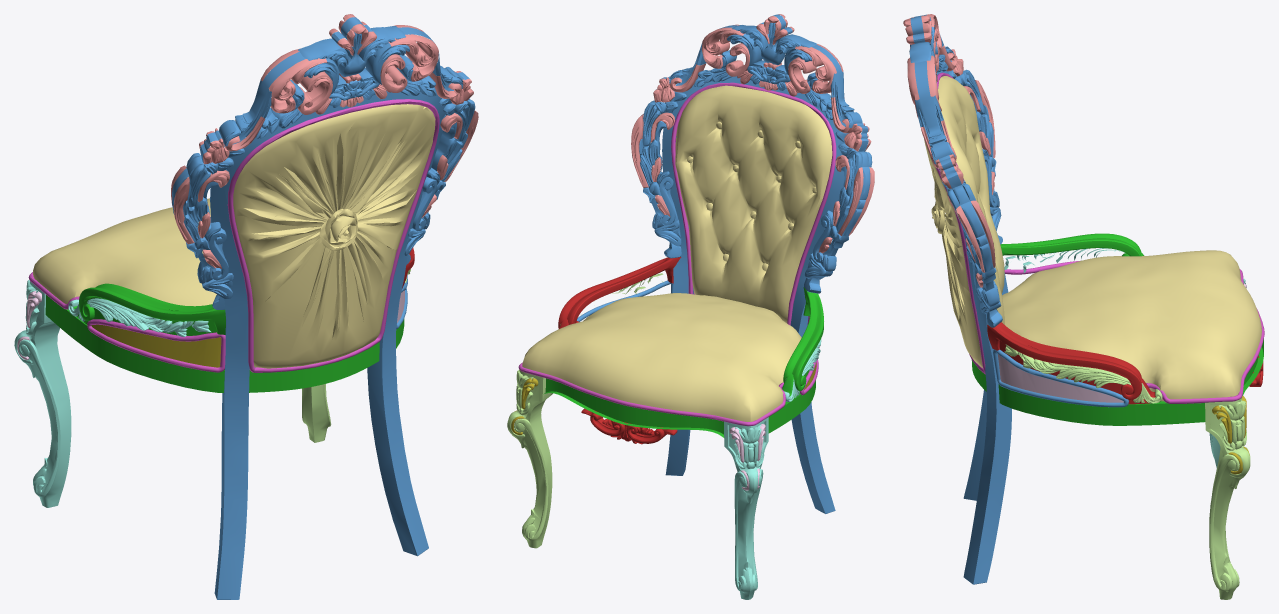
3 renders of one model, left to right at view 1: azimuth 30°, elevation 25°; view 2: azimuth 150°, elevation 25°; view 3: azimuth 270°, elevation 25°, orthographic. The views are drawn at different scales.
Parts seen in each view (by area): view 1: Obj3d66_574394_4_304, Obj3d66_574394_2_32_id_1, Obj3d66_574394_6_805, Obj3d66_574394_2_32_id_2, Obj3d66_574394_1_16, Obj3d66_574394_8_731_id_1, Obj3d66_574394_10_436, Obj3d66_574394_5_101_id_1, Obj3d66_574394_5_101_id_3, Obj3d66_574394_5_101_id_2, Obj3d66_574394_5_101_id_4, Obj3d66_574394_7_107_id_1; view 2: Obj3d66_574394_4_304, Obj3d66_574394_6_805, Obj3d66_574394_2_32_id_1, Obj3d66_574394_2_32_id_2, Obj3d66_574394_8_731_id_1, Obj3d66_574394_7_107_id_1, Obj3d66_574394_10_436, Obj3d66_574394_1_16, Obj3d66_574394_3_899_id_1, Obj3d66_574394_5_101_id_1, Obj3d66_574394_9_806, Obj3d66_574394_8_731_id_2; view 3: Obj3d66_574394_6_805, Obj3d66_574394_2_32_id_1, Obj3d66_574394_4_304, Obj3d66_574394_7_107_id_1, Obj3d66_574394_1_16, Obj3d66_574394_2_32_id_2, Obj3d66_574394_3_899_id_1, Obj3d66_574394_5_101_id_1, Obj3d66_574394_3_899_id_3, Obj3d66_574394_3_899_id_2, Obj3d66_574394_10_436, Obj3d66_574394_3_899_id_4 (+1 smaller).
Boxes of the visible parts, left/top/right/bottom form: Obj3d66_574394_4_304: left=233, top=104, right=435, bottom=368; Obj3d66_574394_2_32_id_1: left=172, top=17, right=475, bottom=599; Obj3d66_574394_6_805: left=33, top=198, right=343, bottom=306; Obj3d66_574394_2_32_id_2: left=171, top=14, right=478, bottom=268; Obj3d66_574394_1_16: left=45, top=295, right=404, bottom=392; Obj3d66_574394_8_731_id_1: left=14, top=280, right=71, bottom=507; Obj3d66_574394_10_436: left=28, top=99, right=439, bottom=372; Obj3d66_574394_5_101_id_1: left=73, top=283, right=225, bottom=369; Obj3d66_574394_5_101_id_3: left=91, top=324, right=221, bottom=367; Obj3d66_574394_5_101_id_2: left=68, top=298, right=211, bottom=336; Obj3d66_574394_5_101_id_4: left=87, top=319, right=225, bottom=372; Obj3d66_574394_7_107_id_1: left=302, top=384, right=331, bottom=442; Obj3d66_574394_4_304: left=675, top=85, right=832, bottom=323; Obj3d66_574394_6_805: left=522, top=293, right=801, bottom=421; Obj3d66_574394_2_32_id_1: left=639, top=14, right=872, bottom=513; Obj3d66_574394_2_32_id_2: left=631, top=14, right=874, bottom=253; Obj3d66_574394_8_731_id_1: left=724, top=417, right=768, bottom=599; Obj3d66_574394_7_107_id_1: left=507, top=369, right=552, bottom=548; Obj3d66_574394_10_436: left=518, top=82, right=836, bottom=426; Obj3d66_574394_1_16: left=544, top=378, right=815, bottom=437; Obj3d66_574394_3_899_id_1: left=558, top=256, right=681, bottom=328; Obj3d66_574394_5_101_id_1: left=782, top=287, right=823, bottom=398; Obj3d66_574394_9_806: left=581, top=408, right=677, bottom=444; Obj3d66_574394_8_731_id_2: left=729, top=424, right=765, bottom=490; Obj3d66_574394_6_805: left=1002, top=250, right=1261, bottom=401; Obj3d66_574394_2_32_id_1: left=909, top=14, right=1011, bottom=584; Obj3d66_574394_4_304: left=924, top=76, right=1004, bottom=367; Obj3d66_574394_7_107_id_1: left=1205, top=395, right=1250, bottom=599; Obj3d66_574394_1_16: left=971, top=338, right=1263, bottom=425; Obj3d66_574394_2_32_id_2: left=903, top=14, right=995, bottom=287; Obj3d66_574394_3_899_id_1: left=987, top=322, right=1155, bottom=404; Obj3d66_574394_5_101_id_1: left=1000, top=233, right=1144, bottom=256; Obj3d66_574394_3_899_id_3: left=997, top=354, right=1123, bottom=402; Obj3d66_574394_3_899_id_2: left=1004, top=344, right=1162, bottom=403; Obj3d66_574394_10_436: left=936, top=72, right=1264, bottom=403; Obj3d66_574394_3_899_id_4: left=993, top=349, right=1128, bottom=407.
Bounding box in the file's own units: 64.79 × 114 × 71.29.
